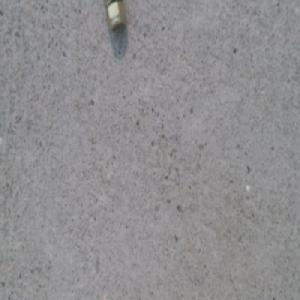BoltNutSet: (108, 0, 128, 37)
